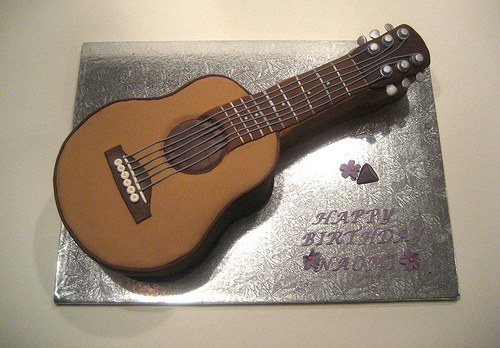guitar: (53, 21, 434, 279)
